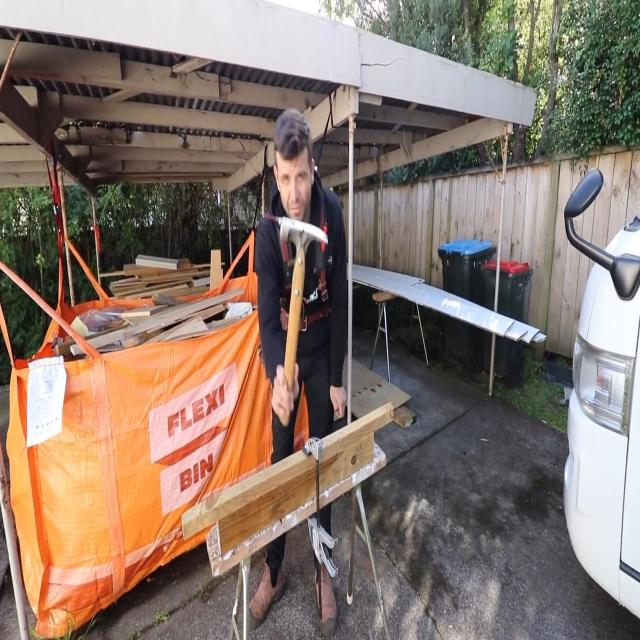hammer: (278, 214, 328, 386)
